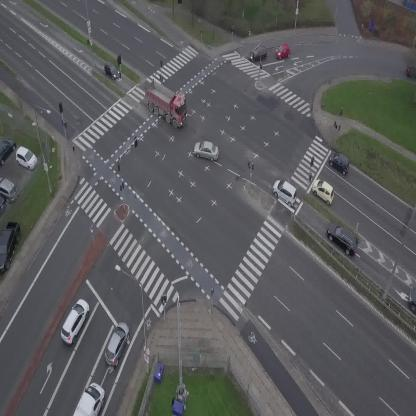car: (56, 296, 94, 347), (321, 218, 364, 258), (101, 319, 134, 368), (268, 176, 302, 208), (308, 176, 340, 206), (326, 150, 354, 176), (192, 139, 220, 162), (100, 61, 121, 82), (274, 44, 291, 60), (249, 46, 267, 61), (409, 287, 416, 312), (407, 62, 416, 77)
lorry: (137, 77, 195, 130), (73, 379, 109, 416)
